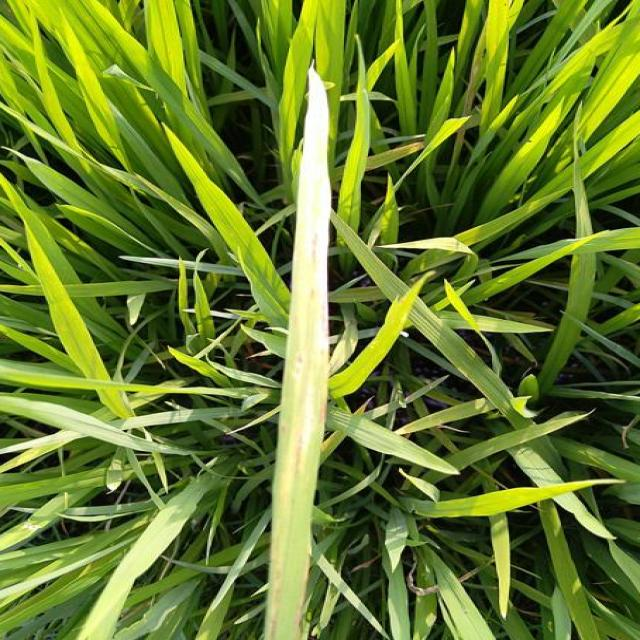Leaf Streak: (264, 68, 328, 640)
